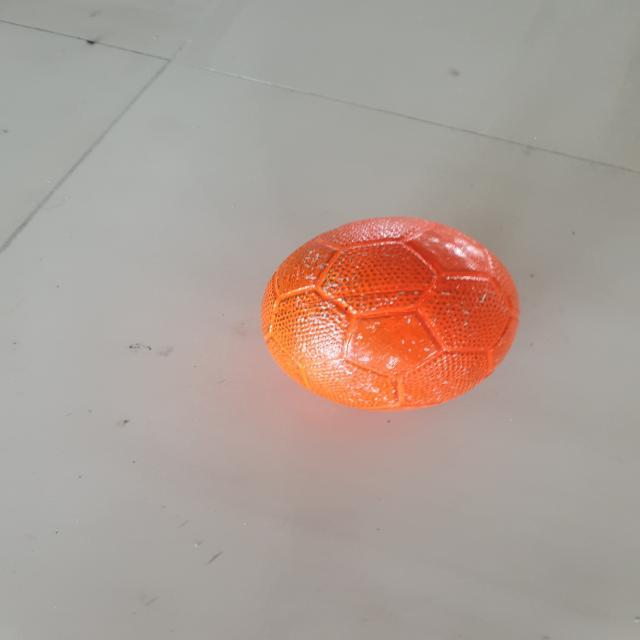bola: (253, 202, 525, 420)
